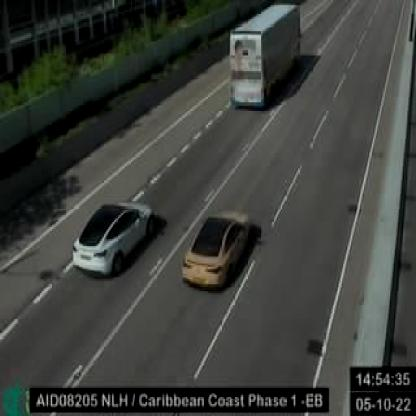Bus: (229, 3, 299, 111)
Car: (72, 203, 152, 272), (181, 208, 248, 289)
